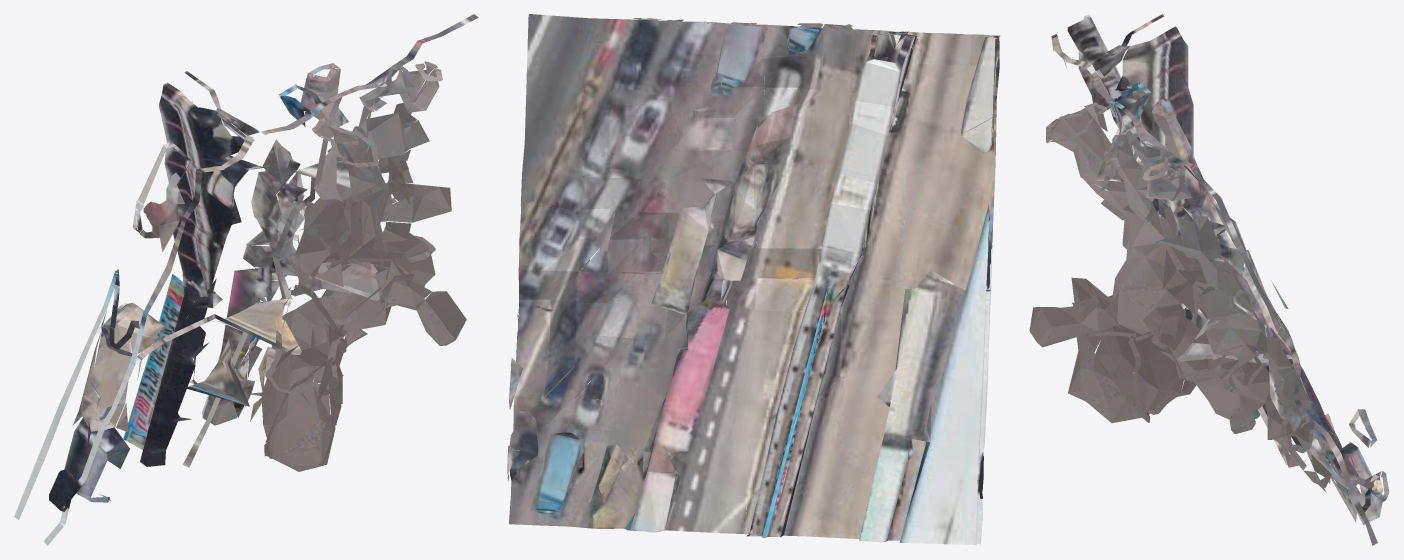
Rendered from AJVsH2zOlBEk3p7QH4a72qGBAbiKguK7Wr7LQi39bXW7q4dQLvmKywHAg2CC64VCD7CveXPHIOGwrs5zjj2gZ6FXfi0LXNKVL0_7fLwQL5K5QNjFgYasb6RionLRAjYIYucoQW4PQWKwfhYPE_Q9XbupgREk.glb.
3 views of the same model, side by side, from view 1: azimuth 30°, elevation 25°; view 2: azimuth 150°, elevation 25°; view 3: azimuth 270°, elevation 25° (orthographic). The views are drawn at different scales.
Bounding box in the file's own units: 39.73 × 38.8 × 30.62.
2 materials, 2 textured.
